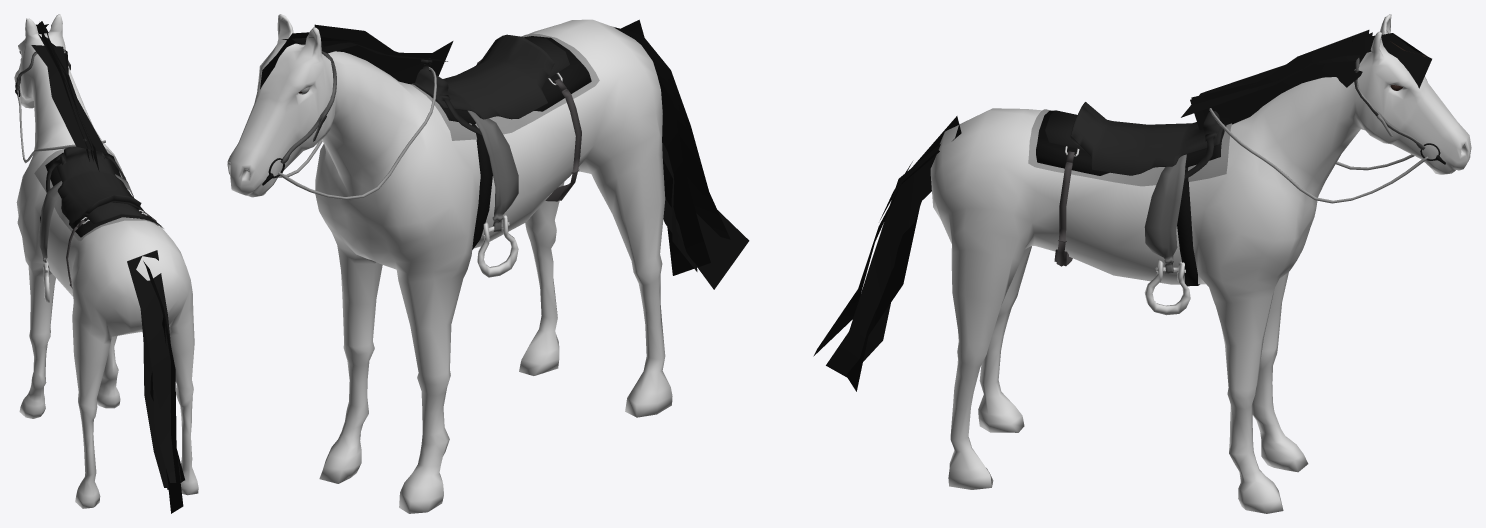
The model's file is horse.fbx.
3 renders of one model, left to right at view 1: azimuth 30°, elevation 25°; view 2: azimuth 150°, elevation 25°; view 3: azimuth 270°, elevation 25°, orthographic. The views are drawn at different scales.
Parts seen in each view (by area): view 1: Horse002; view 2: Horse002; view 3: Horse002.
Part boxes in pixels (x1,y1,x2,y2): Horse002: [14, 14, 198, 513]; Horse002: [227, 14, 749, 513]; Horse002: [813, 14, 1471, 513].
Bounding box in the file's own units: 75.69 × 181 × 239.
